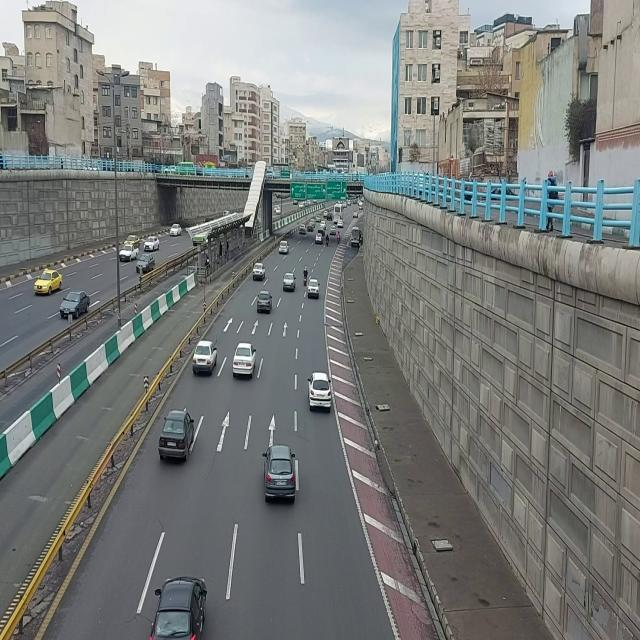Bus: (333, 203, 344, 223)
Car: (149, 574, 208, 640), (261, 444, 295, 504), (158, 408, 196, 456), (307, 369, 333, 413), (192, 341, 218, 379), (232, 340, 256, 378), (60, 290, 90, 320), (34, 269, 64, 296), (136, 253, 155, 275), (256, 291, 272, 316), (119, 243, 139, 263), (283, 272, 297, 294), (252, 262, 266, 282), (308, 279, 321, 300), (143, 236, 160, 252), (123, 234, 141, 245), (170, 223, 182, 238), (279, 240, 290, 255), (315, 233, 323, 245), (298, 224, 306, 234), (329, 225, 337, 235), (307, 223, 314, 233), (337, 219, 344, 229), (320, 221, 328, 229), (327, 211, 333, 221), (276, 207, 282, 216), (316, 214, 322, 222), (293, 200, 299, 206), (323, 210, 327, 218)
Motorcycle: (303, 265, 309, 287), (325, 232, 329, 246), (337, 231, 341, 244)
Pickup: (353, 210, 359, 219)
